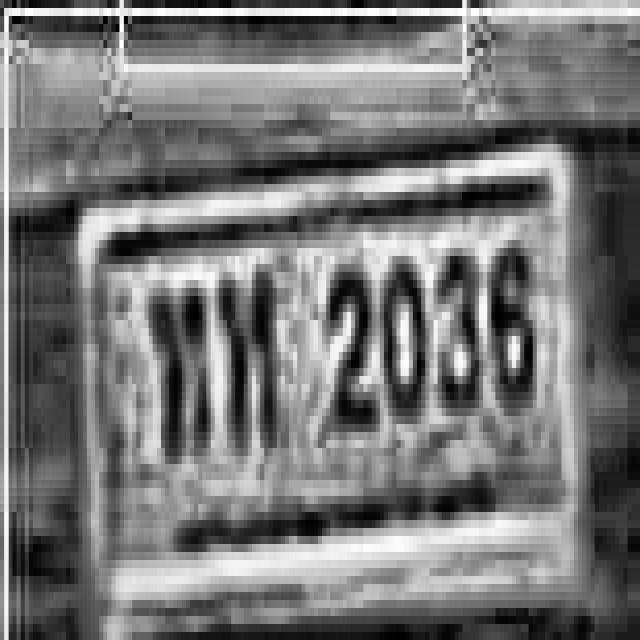license-plate: (49, 88, 603, 640)
